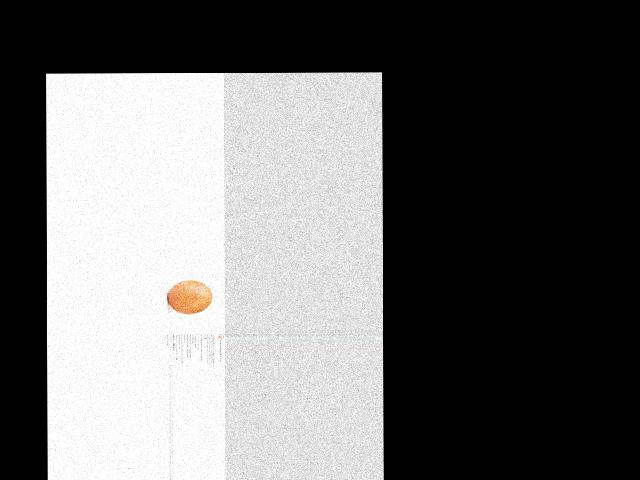egg: (167, 280, 212, 314)
